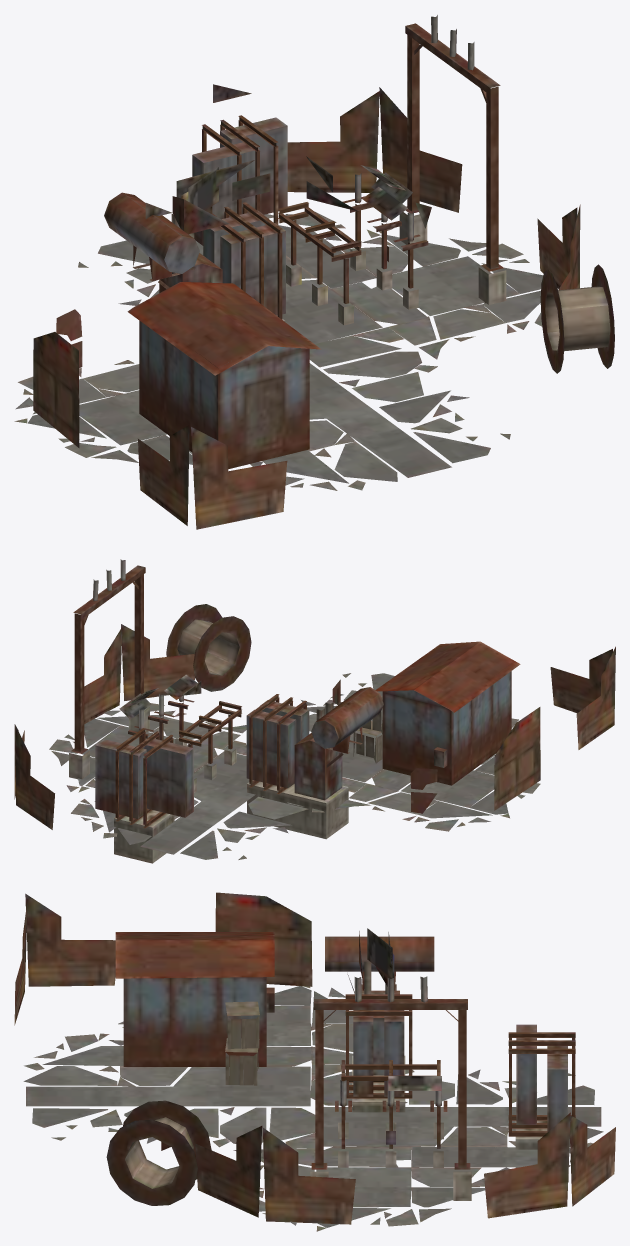
Rendered from power_sub_big_1.glb.
The picture shows the model from 3 angles, top to bottom: view 1: azimuth 30°, elevation 25°; view 2: azimuth 150°, elevation 25°; view 3: azimuth 270°, elevation 25°; orthographic projection. The views are drawn at different scales.
Parts seen in each view (by area): view 1: substation_big_1_hlod; view 2: substation_big_1_hlod; view 3: substation_big_1_hlod.
Boxes of the visible parts, x1=… form: substation_big_1_hlod: x1=14, y1=15, x2=614, y2=529; substation_big_1_hlod: x1=14, y1=559, x2=615, y2=863; substation_big_1_hlod: x1=14, y1=892, x2=615, y2=1231.
Bounding box in the file's own units: 18.55 × 8.74 × 18.93.
Materials: 1 (1 with a texture image).
